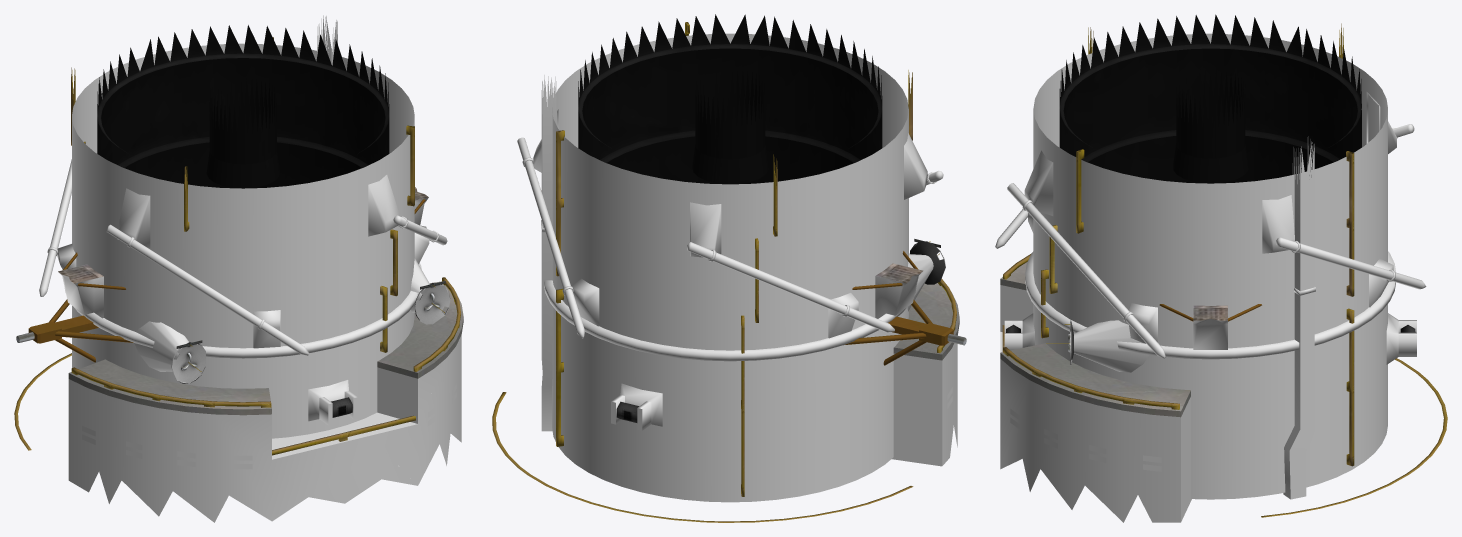
File: hubble-forward-shell.glb
The picture shows the model from 3 angles, left to right: view 1: azimuth 30°, elevation 25°; view 2: azimuth 150°, elevation 25°; view 3: azimuth 270°, elevation 25°; orthographic projection. The views are drawn at different scales.
Parts seen in each view (by area): view 1: forward-shell; view 2: forward-shell; view 3: forward-shell.
Part boxes in pixels (box(x1,y1,x2,y2)): forward-shell: box(14, 15, 463, 522); forward-shell: box(492, 14, 966, 522); forward-shell: box(995, 14, 1447, 522).
Size of the model in its own units: 4.24 by 3.37 by 3.84.
Materials: 1 (1 with a texture image).
